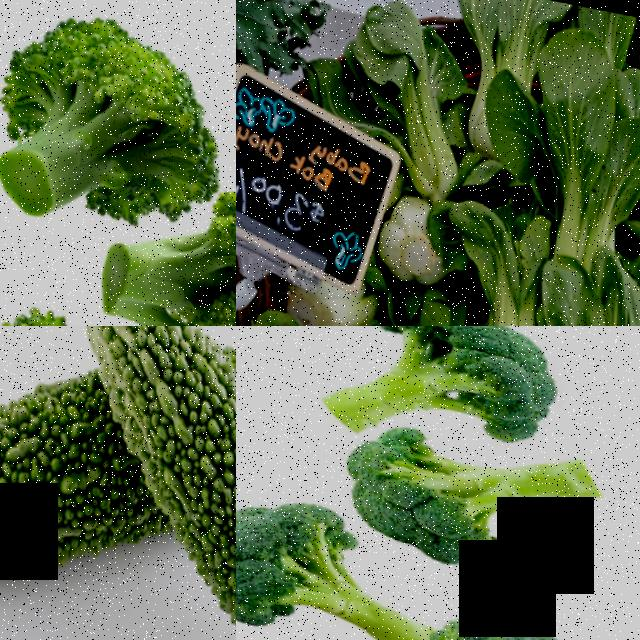bitter gourd: (0, 339, 91, 617)
bok choy: (352, 18, 461, 182), (546, 74, 640, 257), (452, 0, 545, 152), (455, 203, 548, 326), (544, 254, 640, 326)
broccoli: (0, 0, 232, 222), (347, 407, 640, 580), (258, 326, 578, 439), (79, 160, 236, 326), (236, 475, 353, 640), (400, 597, 640, 640)
